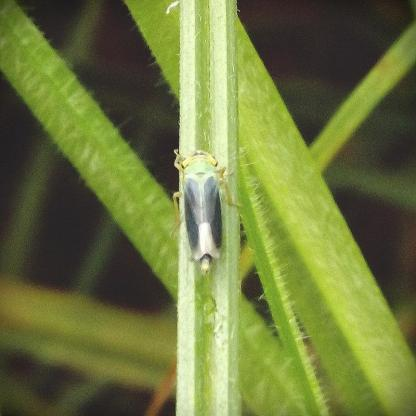Green-Leafhopper: (166, 137, 247, 282)
